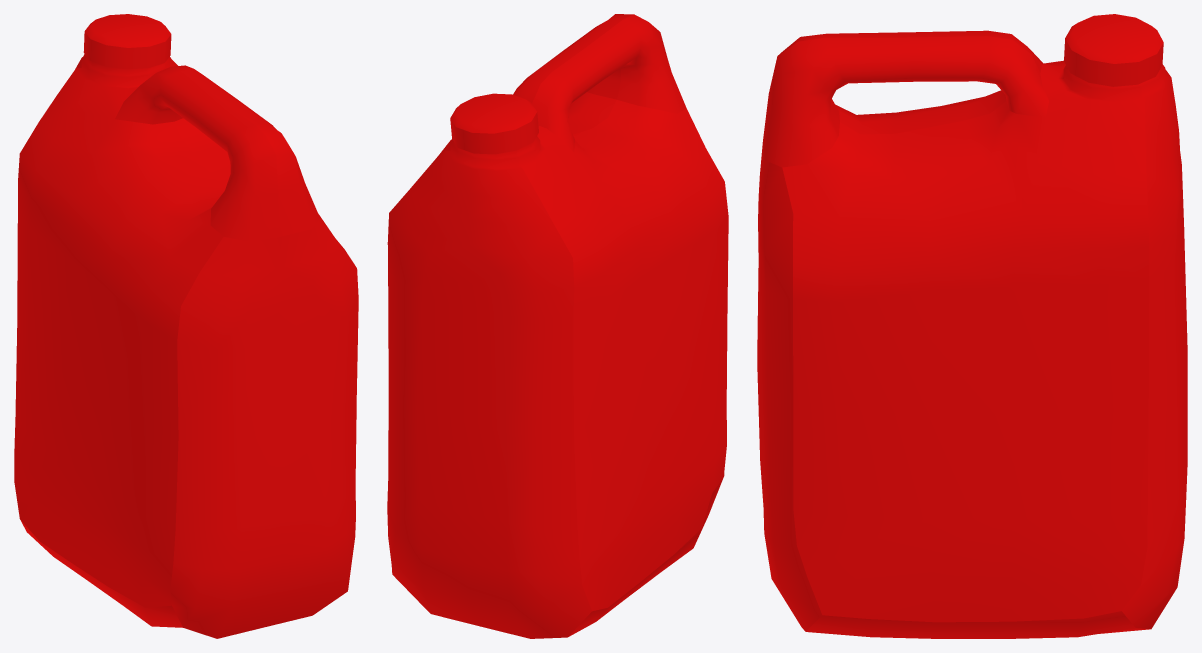
Rendered from SM_Canister_03.glb.
The picture shows the model from 3 angles, left to right: view 1: azimuth 30°, elevation 25°; view 2: azimuth 150°, elevation 25°; view 3: azimuth 270°, elevation 25°; orthographic projection. The views are drawn at different scales.
Visible parts, largest first — view 1: SM_Canister_03; view 2: SM_Canister_03; view 3: SM_Canister_03.
Part boxes in pixels (x1,y1,x2,y2): SM_Canister_03: [14, 14, 358, 638]; SM_Canister_03: [387, 14, 728, 638]; SM_Canister_03: [757, 14, 1187, 638].
Bounding box in the file's own units: 0.1239 × 0.2861 × 0.1915.
